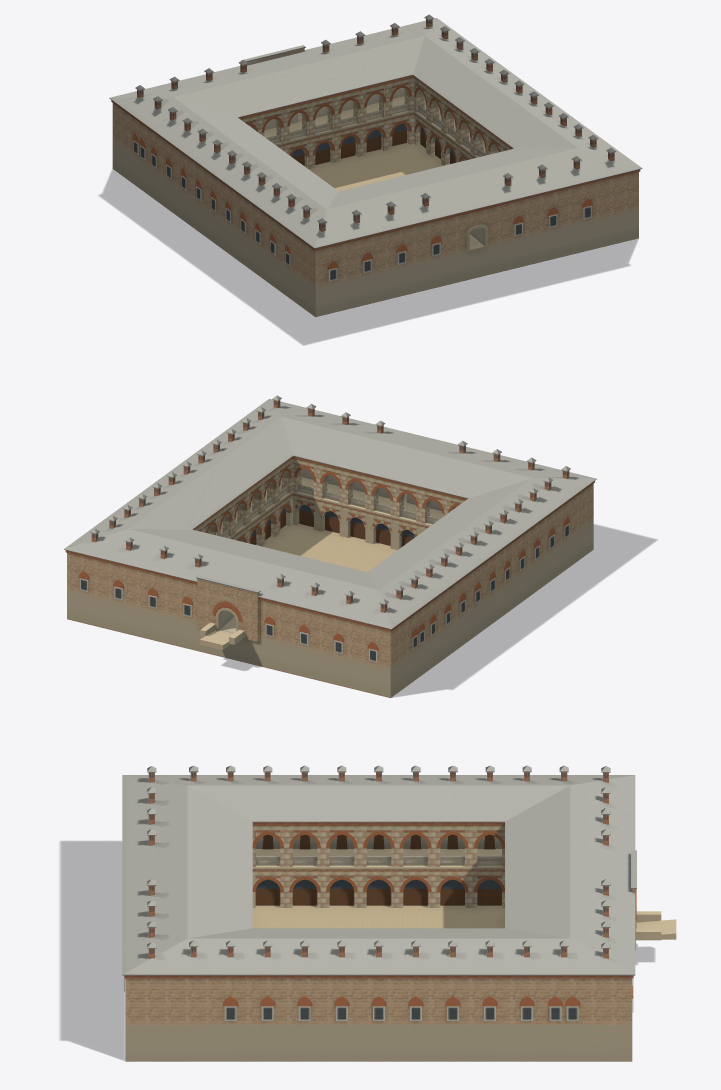
File: emir-hani_v08_harita_pisik.glb
The picture shows the model from 3 angles, top to bottom: view 1: azimuth 30°, elevation 25°; view 2: azimuth 150°, elevation 25°; view 3: azimuth 270°, elevation 25°; orthographic projection. The views are drawn at different scales.
Visible parts, largest first — view 1: Emir_Hani, Harita_Golge, Avlu_Revaklari, Han_Avlu, Girisler; view 2: Emir_Hani, Avlu_Revaklari, Harita_Golge, Girisler, Han_Avlu; view 3: Emir_Hani, Avlu_Revaklari, Harita_Golge, Han_Avlu, Girisler.
Boxes of the visible parts, x1=… form: Emir_Hani: x1=109, y1=14, x2=642, y2=317; Harita_Golge: x1=99, y1=169, x2=638, y2=344; Avlu_Revaklari: x1=238, y1=75, x2=512, y2=168; Han_Avlu: x1=309, y1=143, x2=443, y2=191; Girisler: x1=241, y1=45, x2=488, y2=251; Emir_Hani: x1=64, y1=395, x2=596, y2=697; Avlu_Revaklari: x1=193, y1=456, x2=467, y2=549; Harita_Golge: x1=221, y1=524, x2=656, y2=697; Girisler: x1=196, y1=575, x2=260, y2=649; Han_Avlu: x1=262, y1=523, x2=397, y2=572; Emir_Hani: x1=122, y1=765, x2=635, y2=1061; Avlu_Revaklari: x1=252, y1=822, x2=504, y2=907; Harita_Golge: x1=60, y1=841, x2=654, y2=1060; Han_Avlu: x1=252, y1=905, x2=504, y2=928; Girisler: x1=631, y1=850, x2=676, y2=950.
Bounding box in the file's own units: 59.07 × 11.99 × 68.36.
2 materials, 2 textured.
